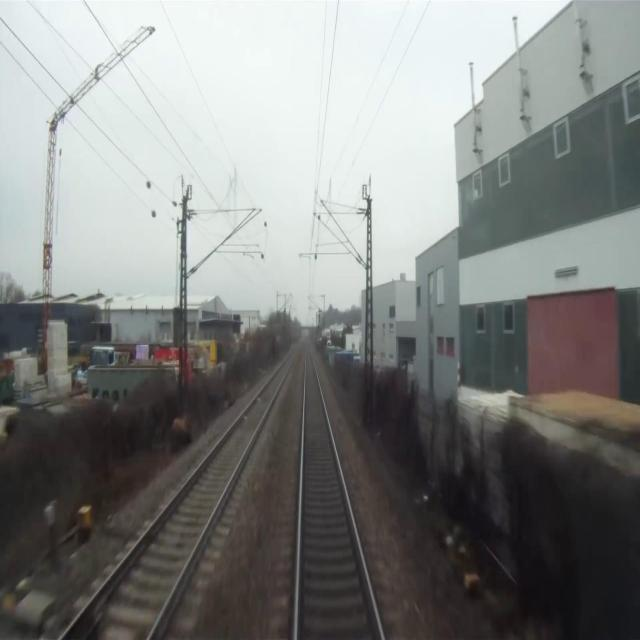rail-track: (64, 350, 296, 639), (299, 345, 380, 639)
